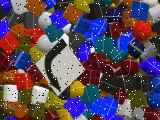Left: (36, 38, 86, 96)
